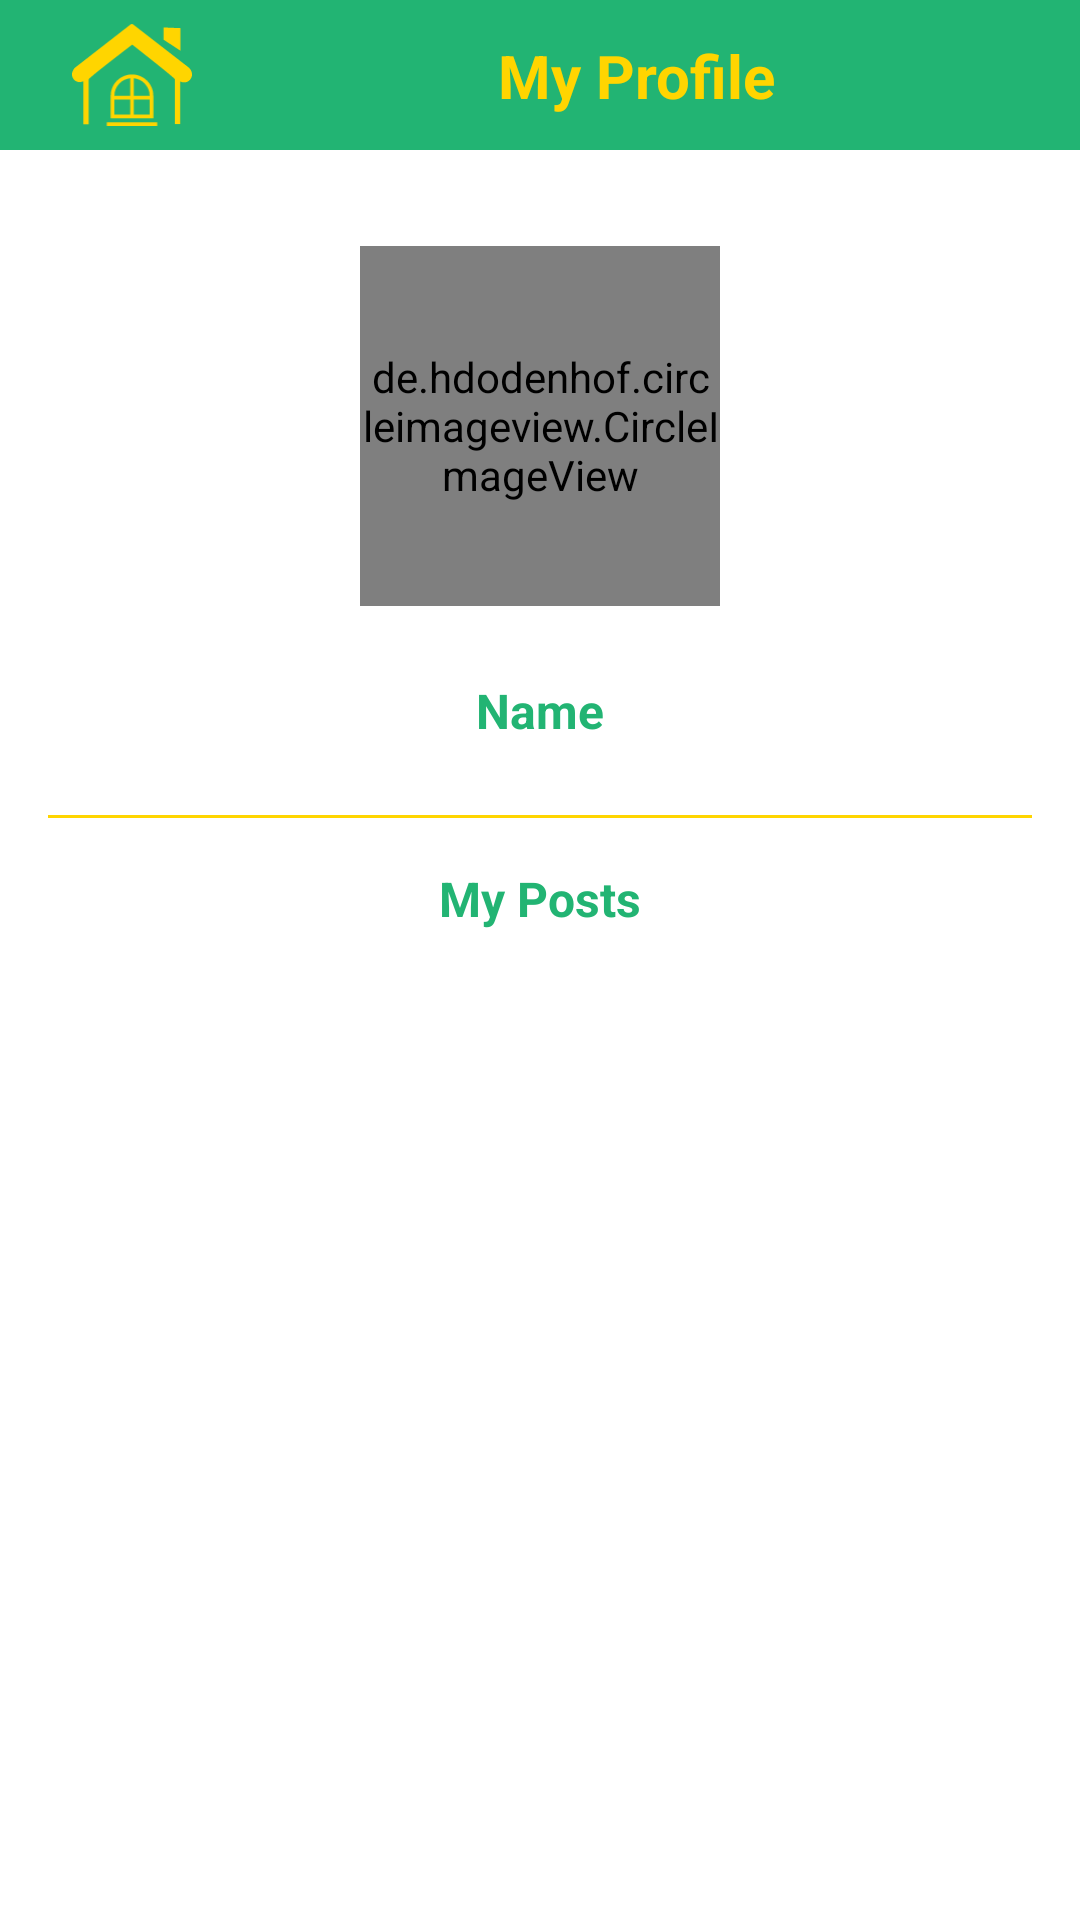

Screen size 1080w x 1920h. Icon name, then its center in pixels as (x,y):
house window: (132,75)
